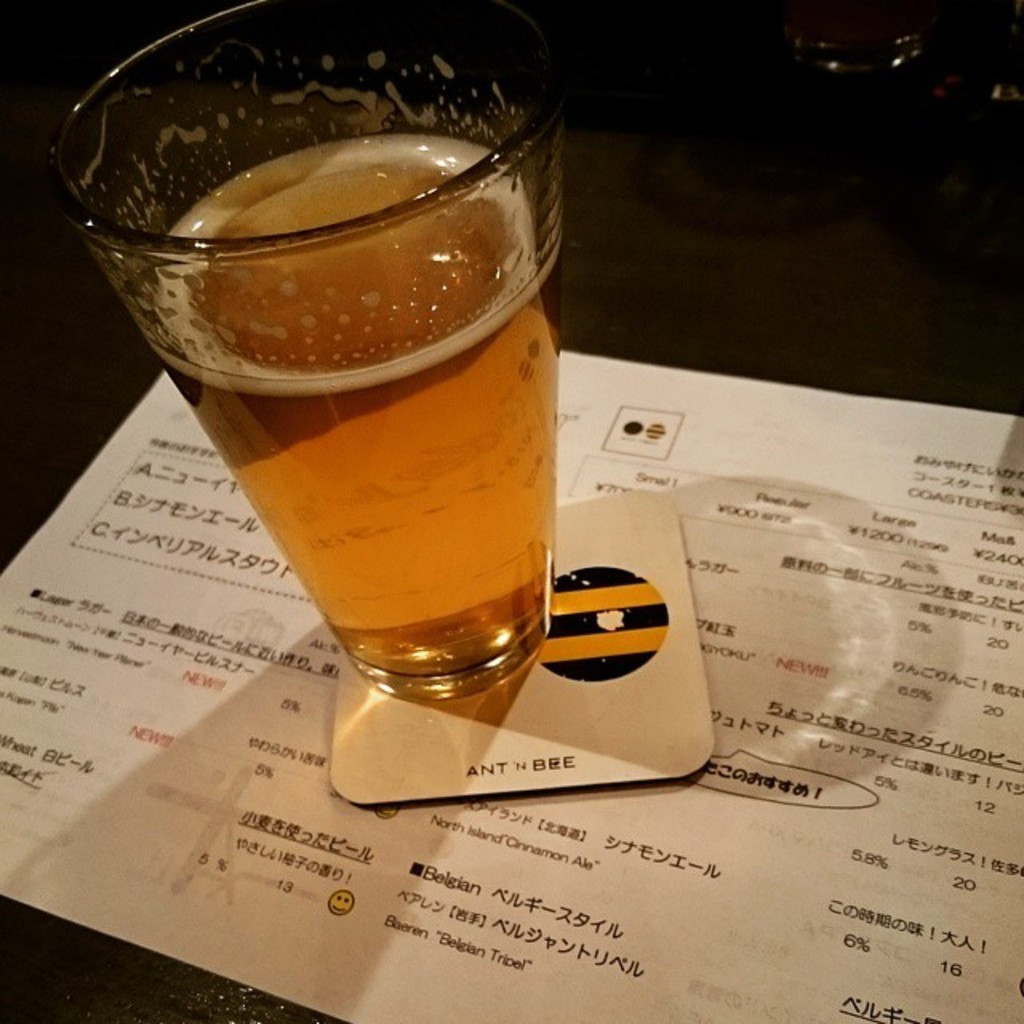Beer: (155, 135, 556, 694)
